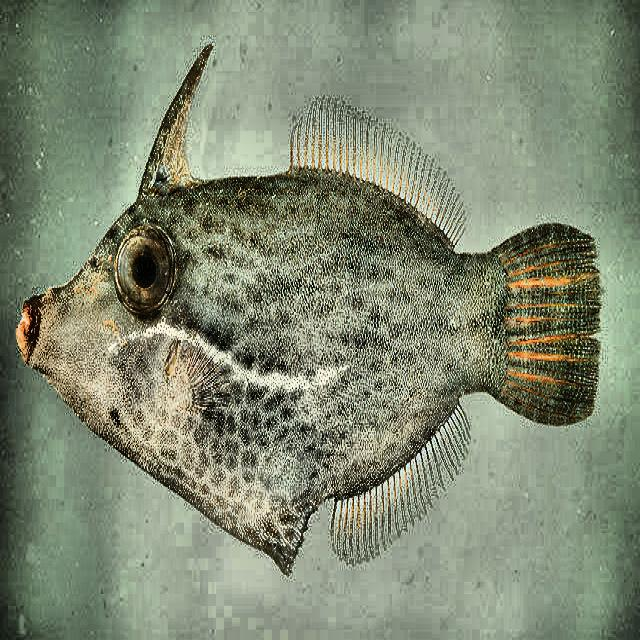fish: (16, 41, 598, 572)
